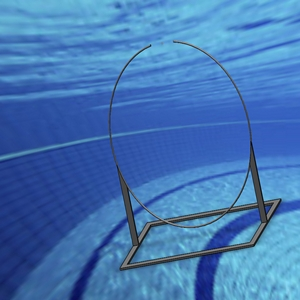circle: (107, 38, 281, 271)
